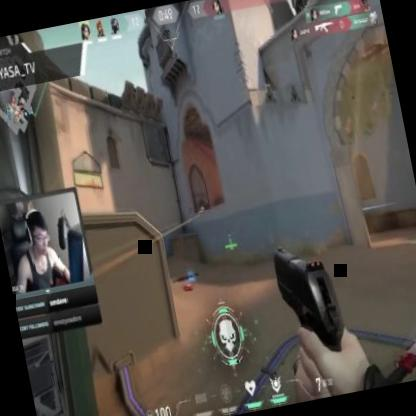enemy: (197, 203, 208, 230)
enemy_head: (200, 203, 204, 211)
